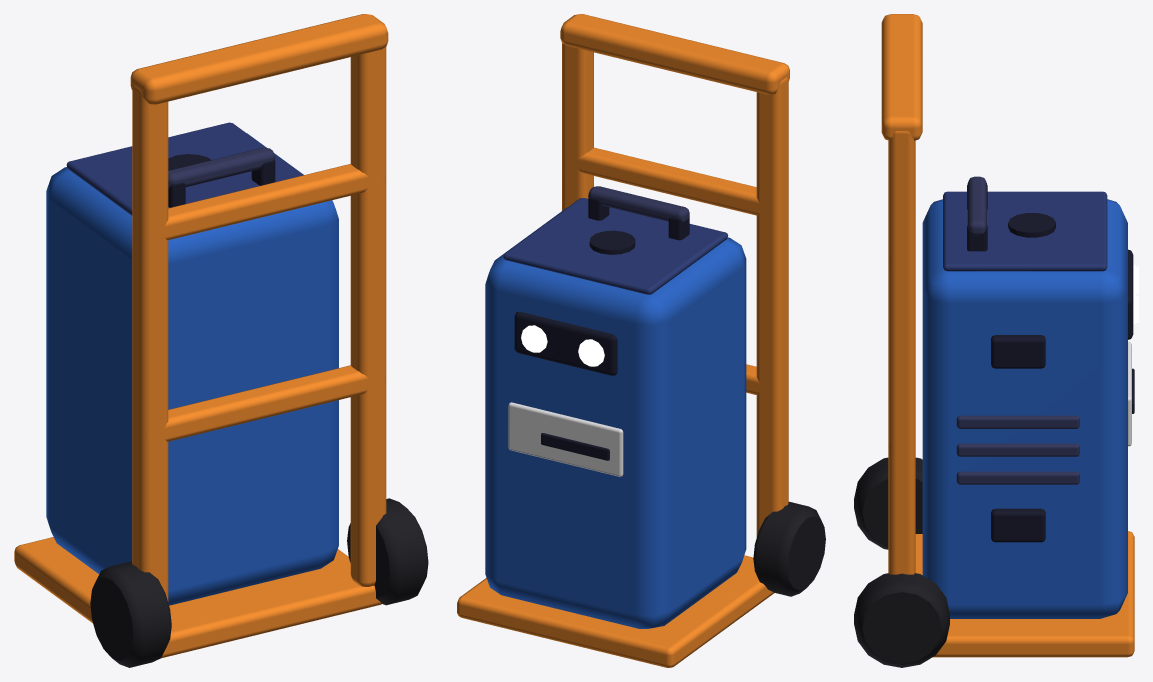
File: prop.props_workrooms.blue_case_trolley.glb
The picture shows the model from 3 angles, left to right: view 1: azimuth 30°, elevation 25°; view 2: azimuth 150°, elevation 25°; view 3: azimuth 270°, elevation 25°; orthographic projection. The views are drawn at different scales.
Parts seen in each view (by area): view 1: prop.props_workrooms.blue_case_trolley; view 2: prop.props_workrooms.blue_case_trolley; view 3: prop.props_workrooms.blue_case_trolley.
Boxes of the visible parts, x1=… form: prop.props_workrooms.blue_case_trolley: x1=14, y1=14, x2=428, y2=667; prop.props_workrooms.blue_case_trolley: x1=457, y1=14, x2=825, y2=667; prop.props_workrooms.blue_case_trolley: x1=854, y1=14, x2=1138, y2=667.
Bounding box in the file's own units: 0.46 × 0.87 × 0.416.
